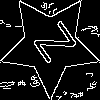Z: (25, 19, 77, 72)
